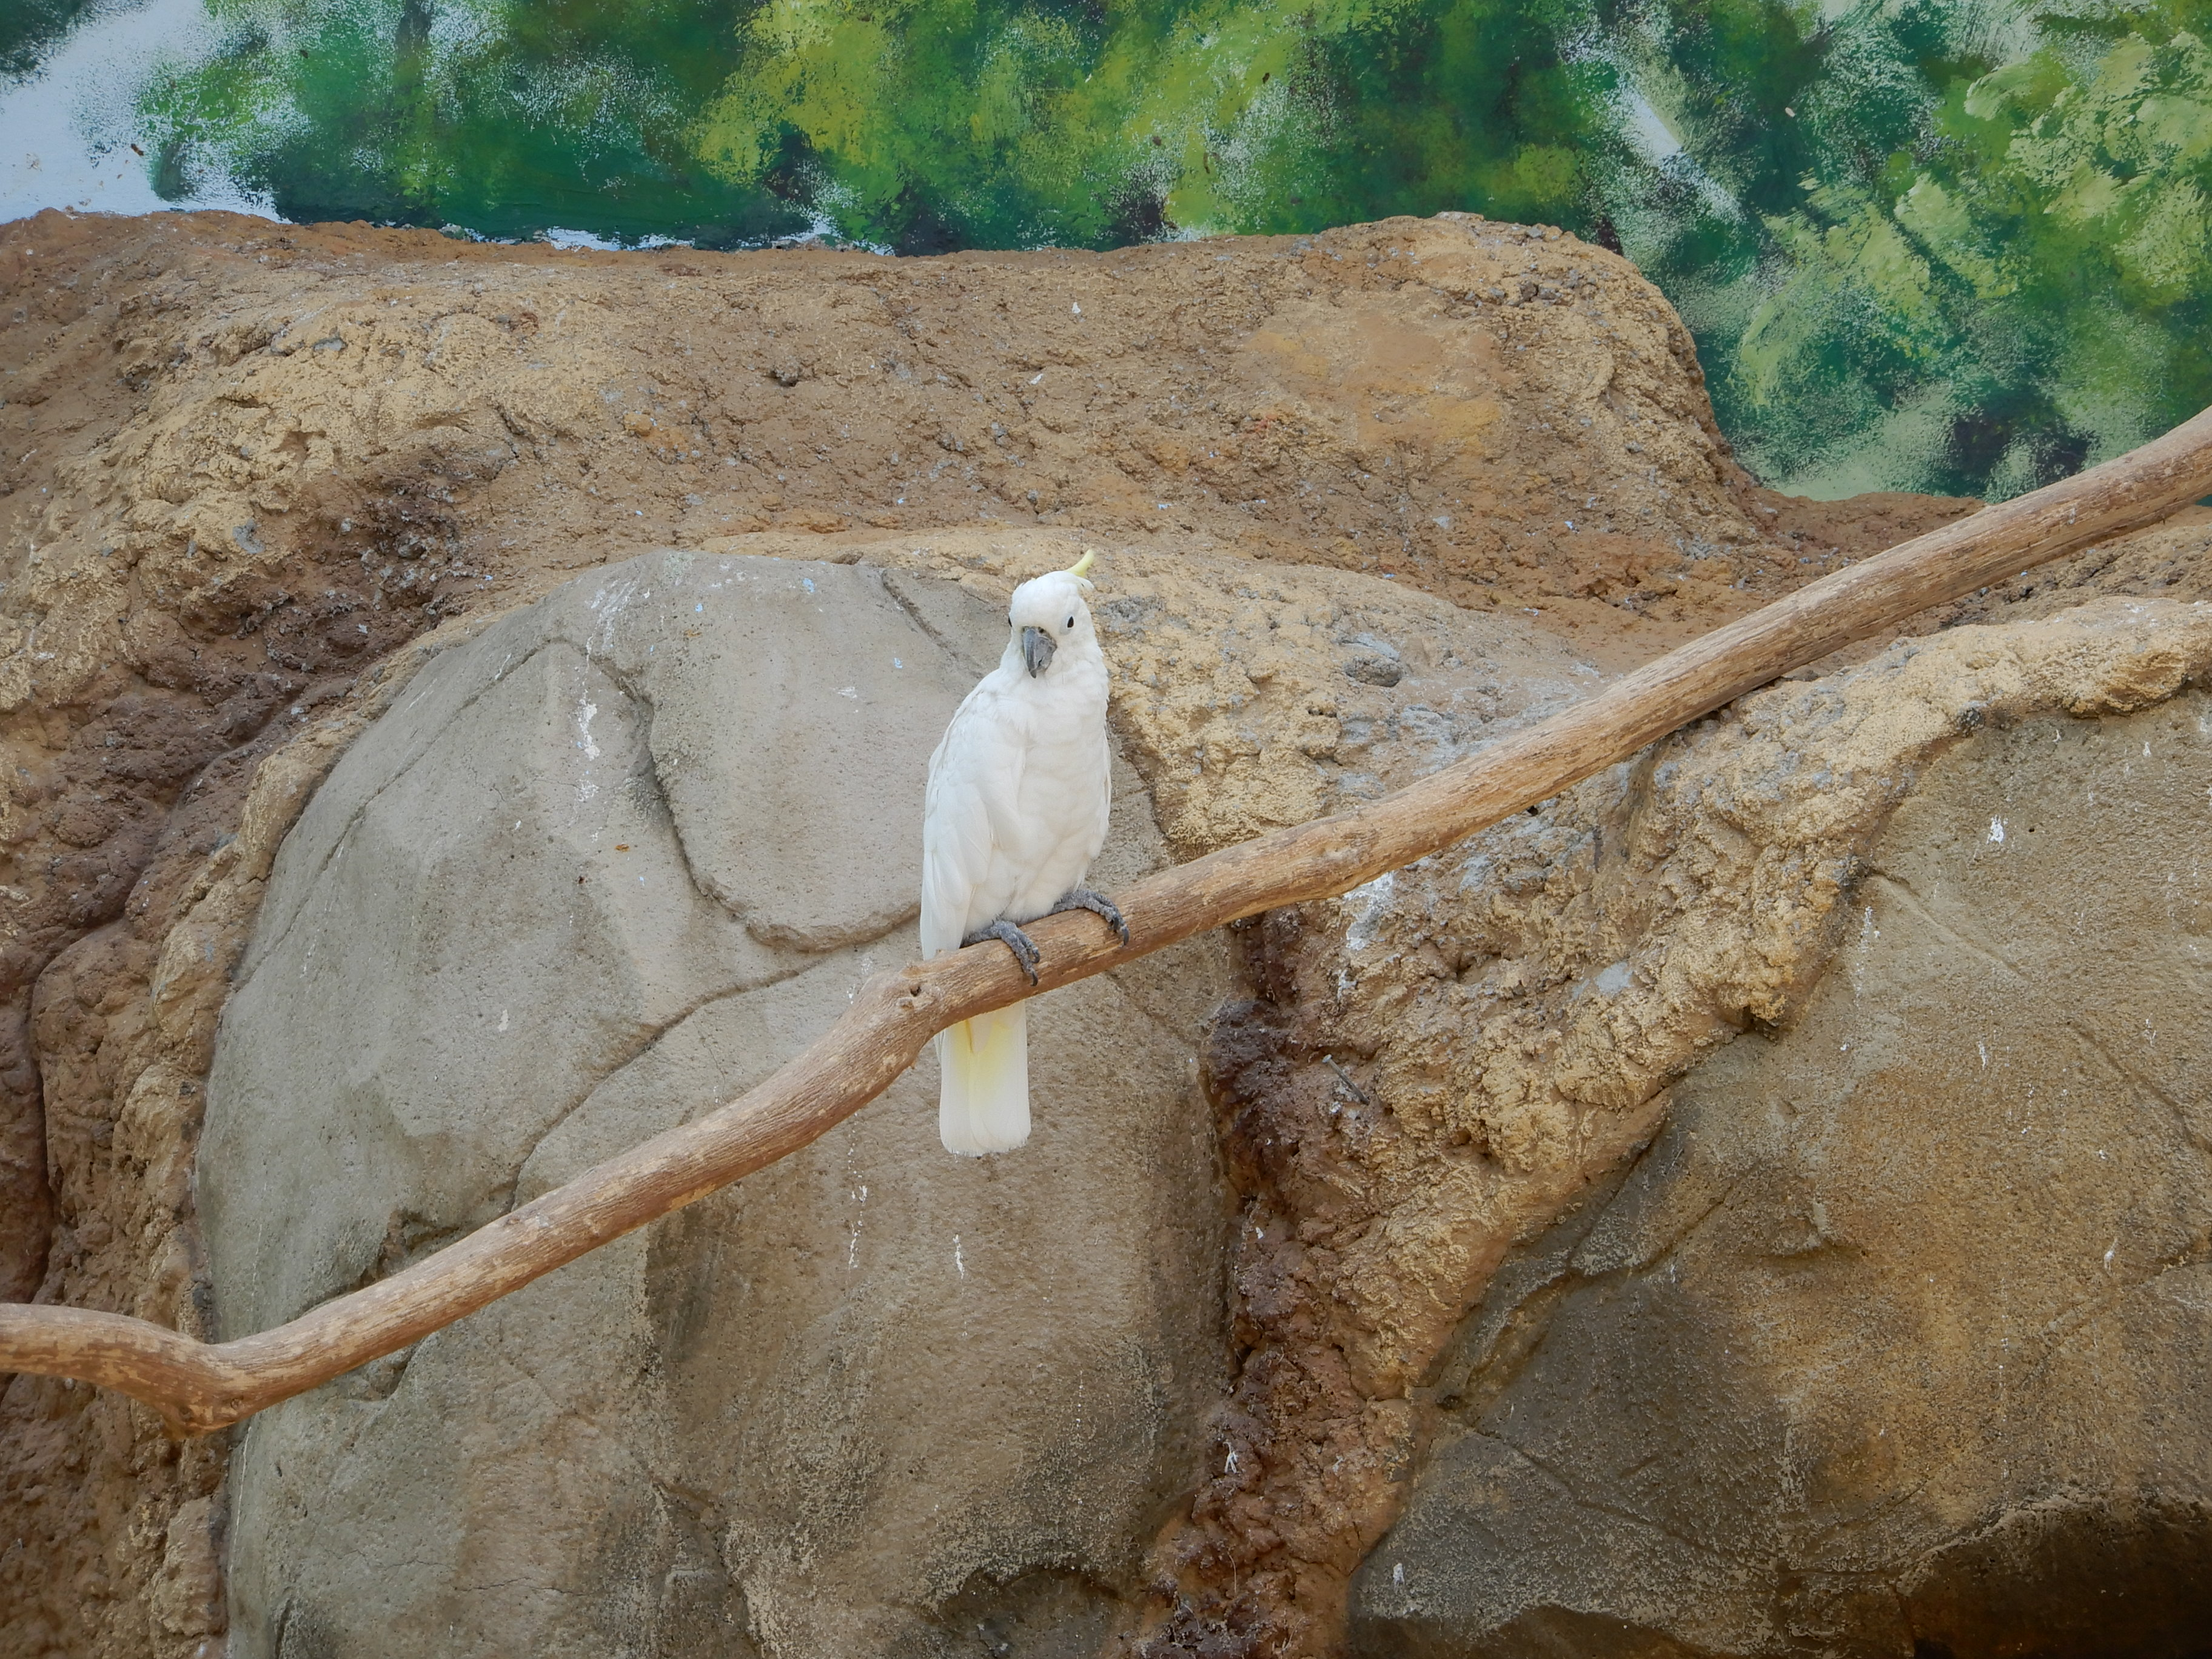Cacatua galerita: (907, 540, 1137, 1161)
